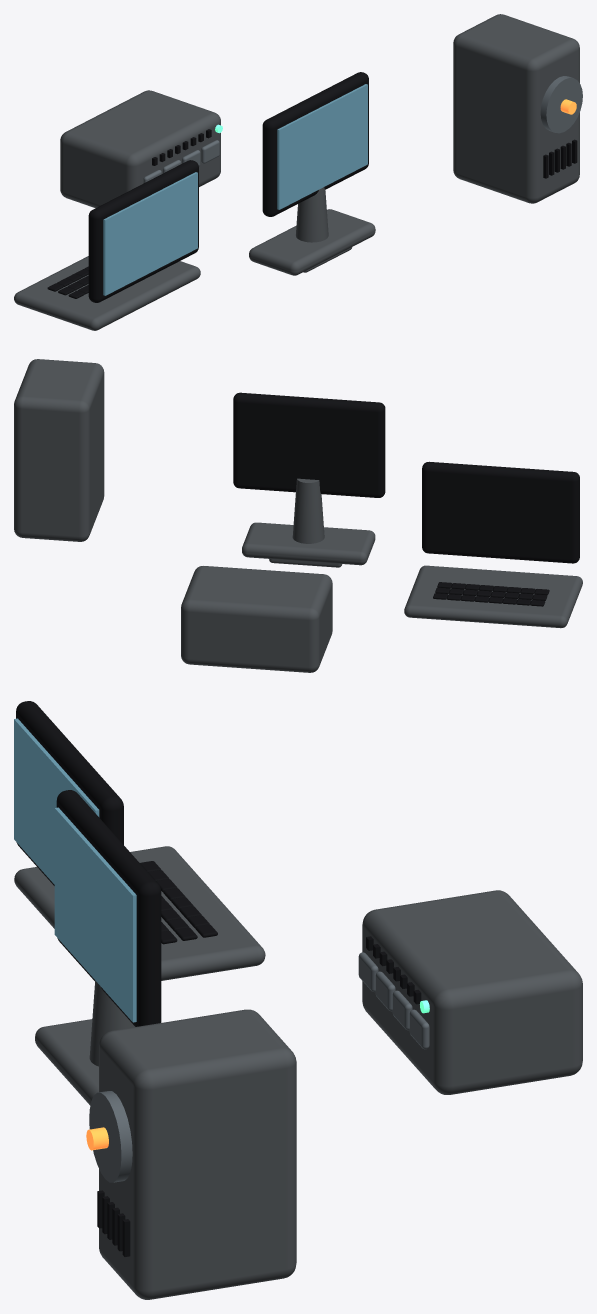
The model's file is everyday-machines.glb.
3 views of the same model, one above another, from view 1: azimuth 30°, elevation 25°; view 2: azimuth 150°, elevation 25°; view 3: azimuth 270°, elevation 25° (orthographic). The views are drawn at different scales.
Visible parts, largest first — view 1: Everyday_Tower, Everyday_HomeServer, Everyday_Workstation_ScreenRecess, Everyday_Laptop_ScreenRecess, Everyday_Laptop, Everyday_Workstation, Everyday_Laptop_ScreenBezel, Everyday_Workstation_ScreenBezel, Everyday_Tower_FanHousing, Everyday_Workstation_Stand; view 2: Everyday_Tower, Everyday_Laptop_ScreenBezel, Everyday_HomeServer, Everyday_Workstation_ScreenBezel, Everyday_Laptop, Everyday_Workstation, Everyday_Workstation_Stand; view 3: Everyday_Tower, Everyday_HomeServer, Everyday_Workstation_ScreenRecess, Everyday_Laptop, Everyday_Workstation_ScreenBezel, Everyday_Laptop_ScreenRecess, Everyday_Laptop_ScreenBezel, Everyday_Workstation, Everyday_Tower_FanHousing, Everyday_Workstation_Stand.
Boxes of the visible parts, <box> form: Everyday_Tower: <box>453,14,579,203</box>; Everyday_HomeServer: <box>60,90,220,208</box>; Everyday_Workstation_ScreenRecess: <box>277,84,367,209</box>; Everyday_Laptop_ScreenRecess: <box>103,172,197,295</box>; Everyday_Laptop: <box>14,256,200,330</box>; Everyday_Workstation: <box>249,209,375,275</box>; Everyday_Laptop_ScreenBezel: <box>88,160,198,302</box>; Everyday_Workstation_ScreenBezel: <box>262,72,368,216</box>; Everyday_Tower_FanHousing: <box>540,76,582,133</box>; Everyday_Workstation_Stand: <box>296,187,328,242</box>; Everyday_Tower: <box>14,359,104,541</box>; Everyday_Laptop_ScreenBezel: <box>422,461,579,563</box>; Everyday_HomeServer: <box>181,566,332,672</box>; Everyday_Workstation_ScreenBezel: <box>233,392,385,497</box>; Everyday_Laptop: <box>404,565,582,628</box>; Everyday_Workstation: <box>242,522,375,565</box>; Everyday_Workstation_Stand: <box>292,478,324,543</box>; Everyday_Tower: <box>99,1009,296,1299</box>; Everyday_HomeServer: <box>362,890,582,1094</box>; Everyday_Workstation_ScreenRecess: <box>54,807,136,1022</box>; Everyday_Laptop: <box>14,846,265,980</box>; Everyday_Workstation_ScreenBezel: <box>56,790,161,1026</box>; Everyday_Laptop_ScreenRecess: <box>14,718,99,884</box>; Everyday_Laptop_ScreenBezel: <box>16,701,123,885</box>; Everyday_Workstation: <box>35,1019,98,1105</box>; Everyday_Tower_FanHousing: <box>89,1091,132,1182</box>; Everyday_Workstation_Stand: <box>89,981,134,1066</box>.
Size of the model in its own units: 4.24 by 1.17 by 2.36.
